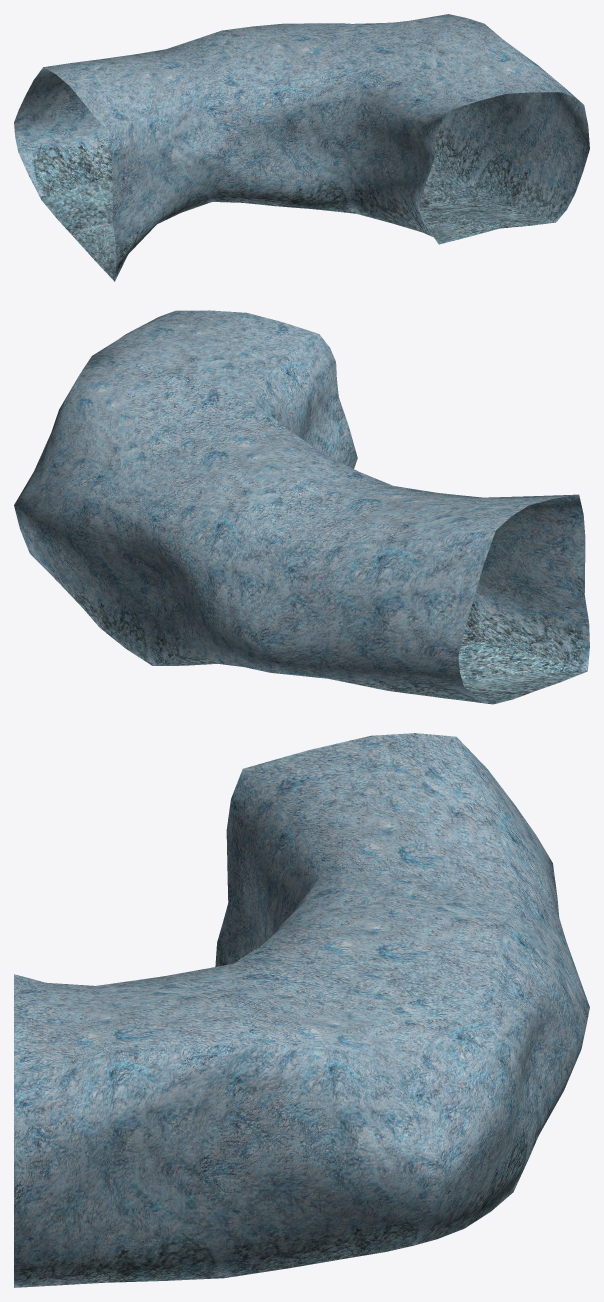
Rendered from thm_all_cave_flatland_s02_ice_r7_mesh_r7.fbx.
3 views of the same model, one above another, from view 1: azimuth 30°, elevation 25°; view 2: azimuth 150°, elevation 25°; view 3: azimuth 270°, elevation 25° (orthographic). The views are drawn at different scales.
Visible parts, largest first — view 1: mesh_node; view 2: mesh_node; view 3: mesh_node.
Part boxes in pixels (bbox=[...]): mesh_node: bbox=[14, 14, 589, 281]; mesh_node: bbox=[14, 310, 589, 704]; mesh_node: bbox=[14, 733, 589, 1287].
Size of the model in its own units: 30.85 by 11.75 by 22.62.
